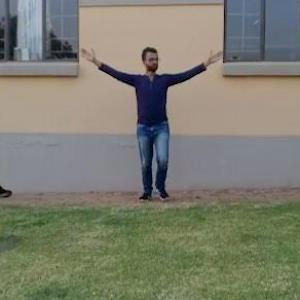takeoff: (87, 41, 231, 195)
